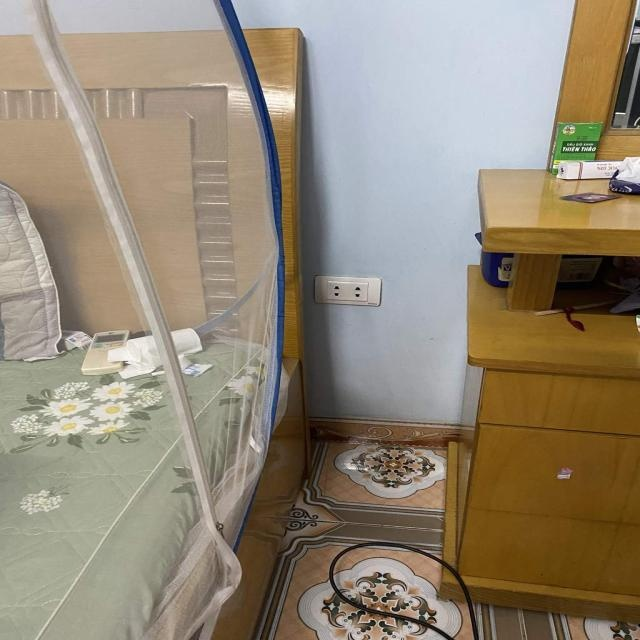outlet: (314, 275, 382, 306)
